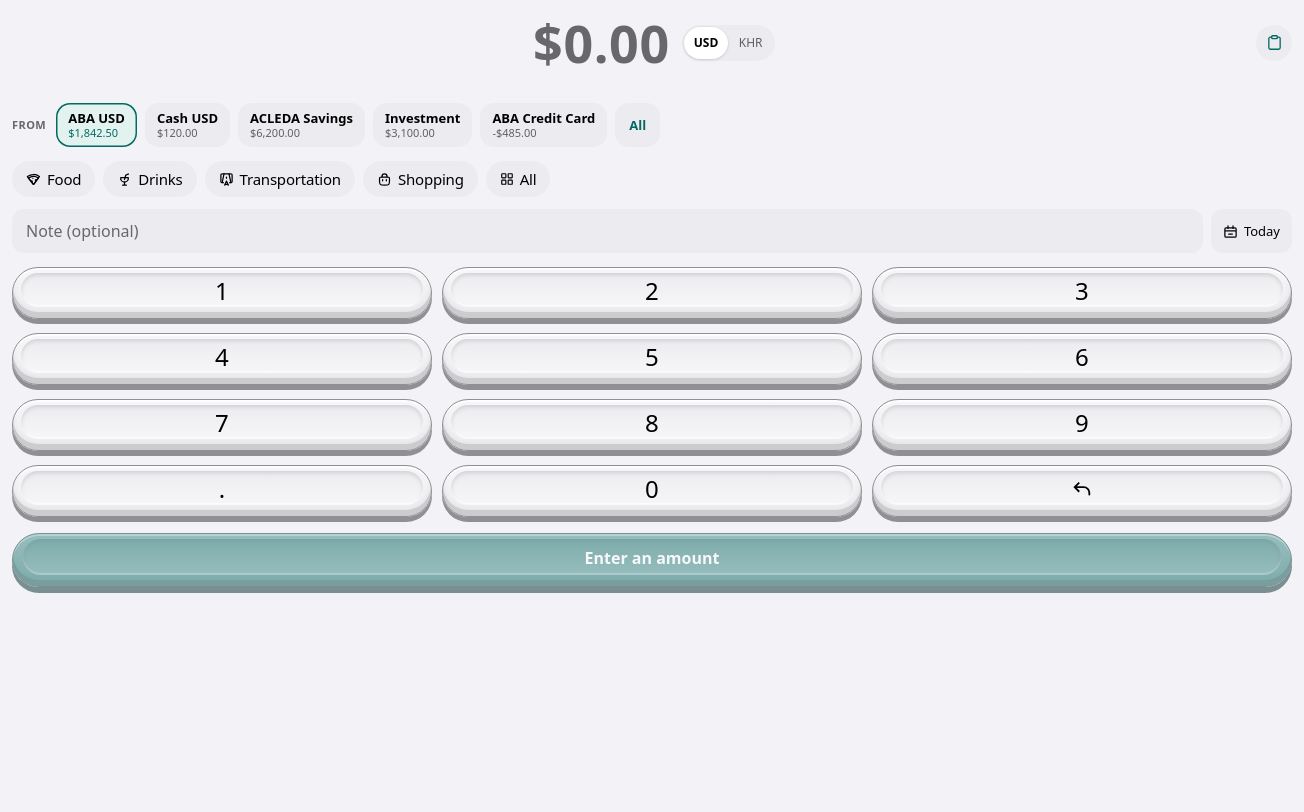
Test case: transaction save feedback › supports native paste and keeps the draft when clipboard permission is denied
Later steps or results of the test are not shown.
Click the button "5".
click(652, 359)  # box top-left (442, 333), bottom-right (862, 385)
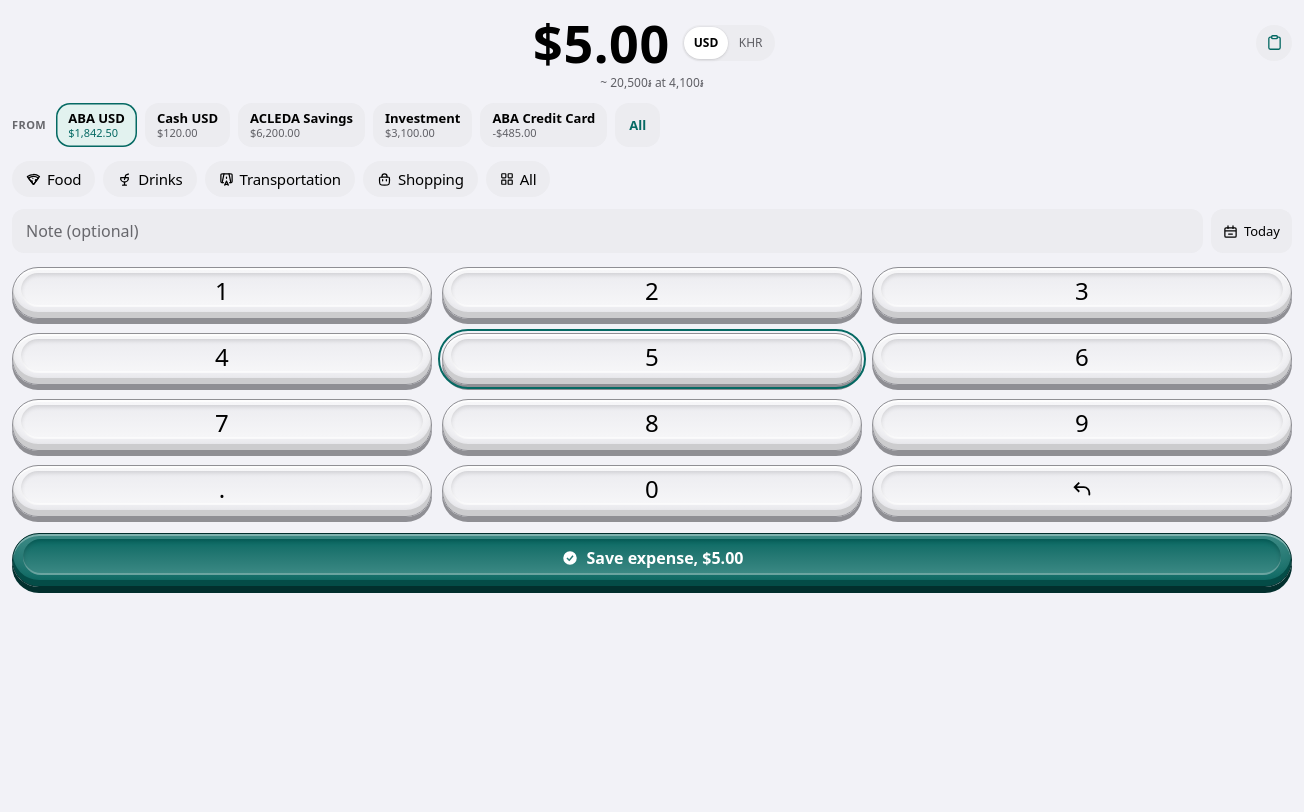
Click the button named "Paste amount".
click(1274, 43)  # box top-left (1256, 25), bottom-right (1292, 61)
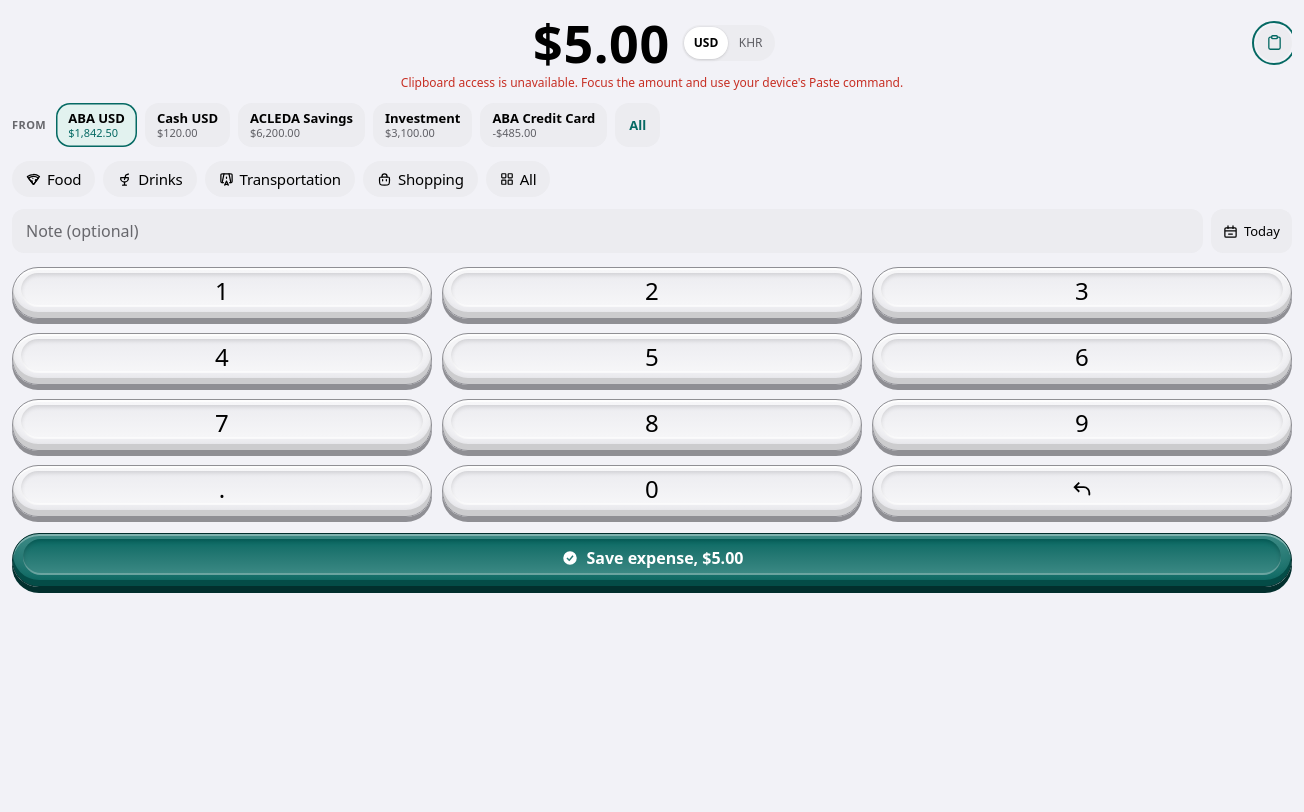
Check: the message shows "Clipboard access is unavailable", box top-left (401, 74), bottom-right (903, 91)
